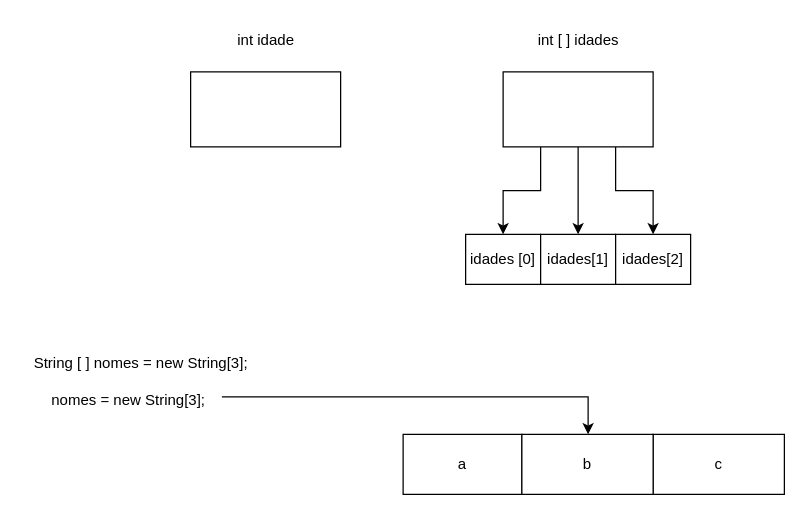
This 806x516 diagram has some shape labels left out. Here are the shapes that lost their labels. From the top down, the centre of each, then its label:
the point at 265,109: variavel
the point at 577,109: array
